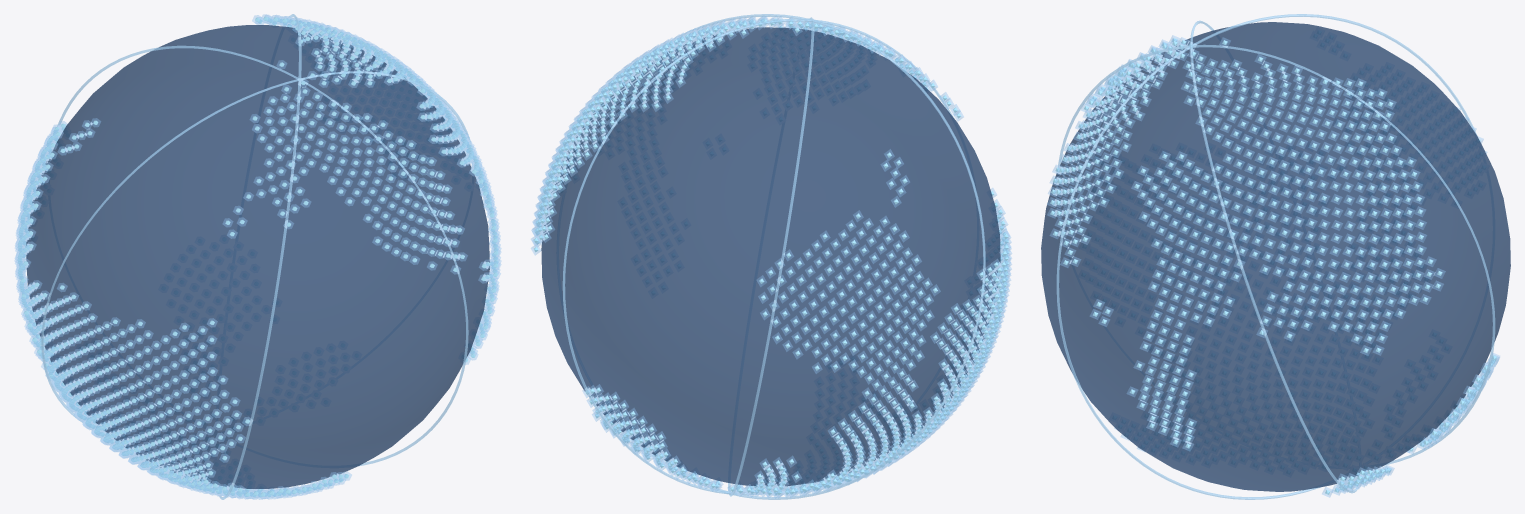
Rendered from fx3d-k-globe.glb.
3 renders of one model, left to right at view 1: azimuth 30°, elevation 25°; view 2: azimuth 150°, elevation 25°; view 3: azimuth 270°, elevation 25°, orthographic. The views are drawn at different scales.
Visible parts, largest first — view 1: ocean, landh, land, Torus.002, Torus, Torus.001; view 2: ocean, landh, land, Torus, Torus.001, Torus.002; view 3: ocean, landh, land, Torus.002, Torus.001, Torus.
Boxes of the visible parts, x1,y1,x2,y2 form: ocean: [26, 25, 489, 488]; landh: [14, 14, 501, 499]; land: [17, 16, 498, 497]; Torus.002: [57, 45, 468, 466]; Torus: [41, 71, 470, 422]; Torus.001: [219, 14, 301, 499]; ocean: [541, 27, 1000, 486]; landh: [531, 15, 1011, 498]; land: [533, 18, 1009, 495]; Torus: [652, 14, 985, 499]; Torus.001: [562, 18, 953, 494]; Torus.002: [728, 17, 814, 496]; ocean: [1041, 22, 1510, 491]; landh: [1047, 35, 1499, 497]; land: [1050, 31, 1496, 494]; Torus.002: [1056, 14, 1477, 499]; Torus.001: [1058, 44, 1495, 465]; Torus: [1190, 20, 1357, 493].
Bounding box in the file's own units: 0.4124 × 0.4079 × 0.3896.
